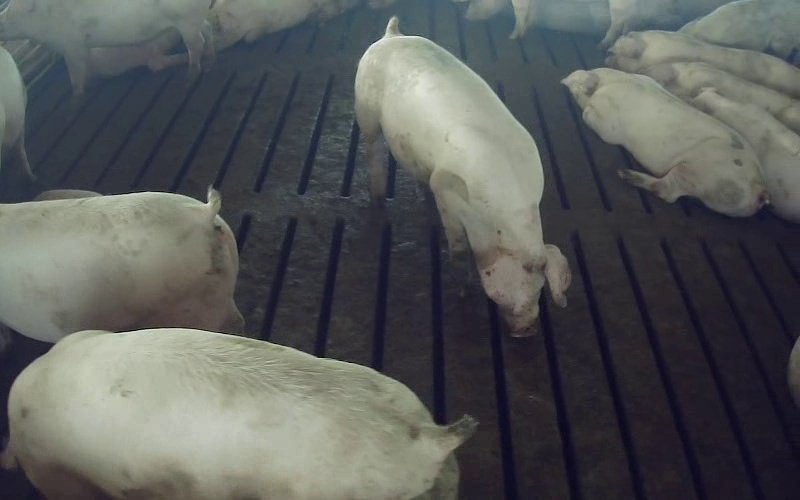pig: (8, 328, 476, 499), (355, 17, 570, 333), (0, 189, 243, 341), (563, 68, 766, 216), (693, 88, 799, 222), (606, 30, 799, 96), (642, 62, 799, 133)
